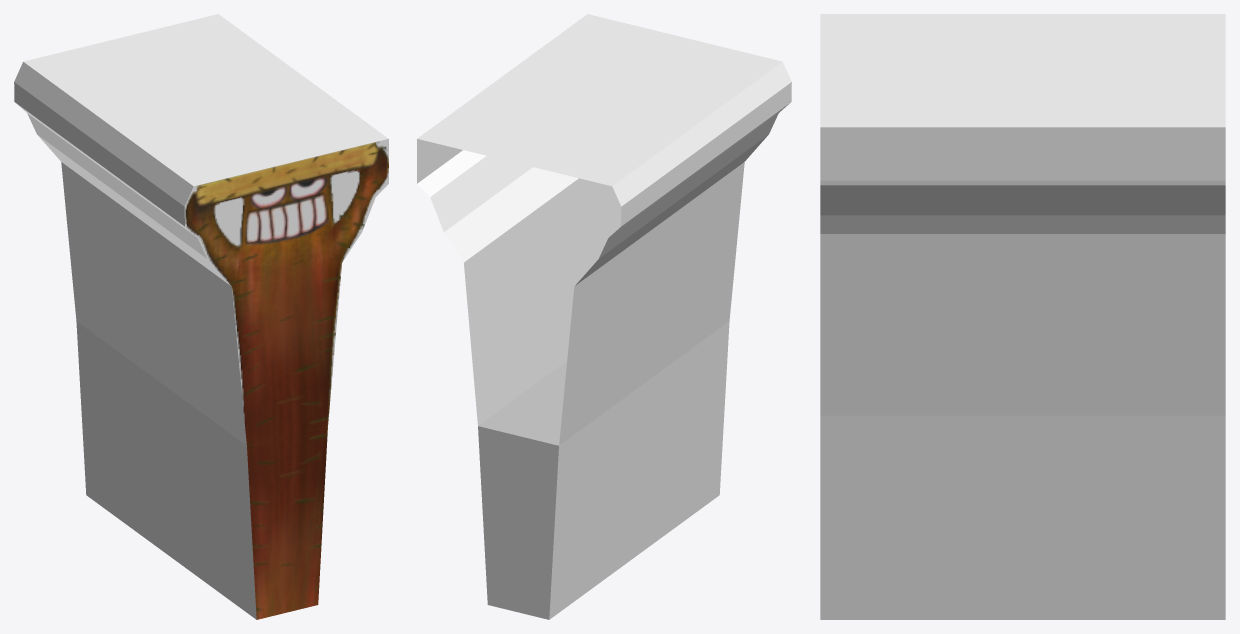
File: Monolito_01.fbx
3 views of the same model, side by side, from view 1: azimuth 30°, elevation 25°; view 2: azimuth 150°, elevation 25°; view 3: azimuth 270°, elevation 25° (orthographic). The views are drawn at different scales.
Parts seen in each view (by area): view 1: Monolito_01; view 2: Monolito_01; view 3: Monolito_01.
Boxes of the visible parts, x1,y1,x2,y2 form: Monolito_01: (14,14,388,619); Monolito_01: (417,14,791,619); Monolito_01: (820,14,1225,619).
Size of the model in its own units: 4.79 by 10.07 by 6.93.
